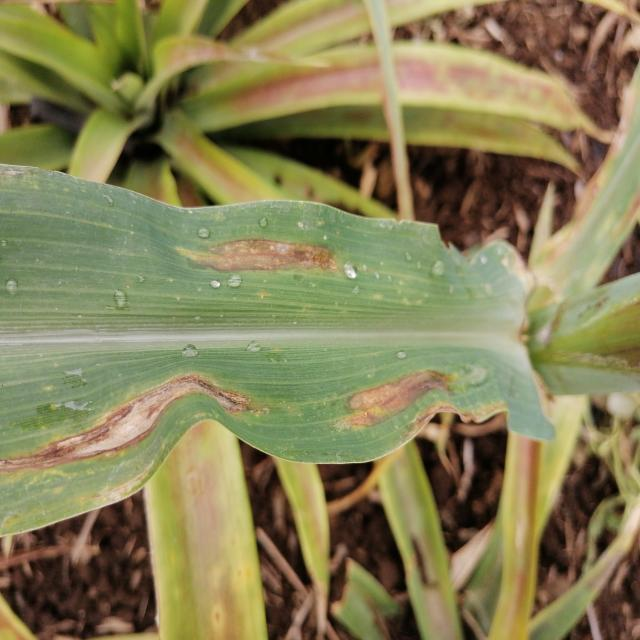Corn_Leaf_Blight: (0, 158, 538, 512)
